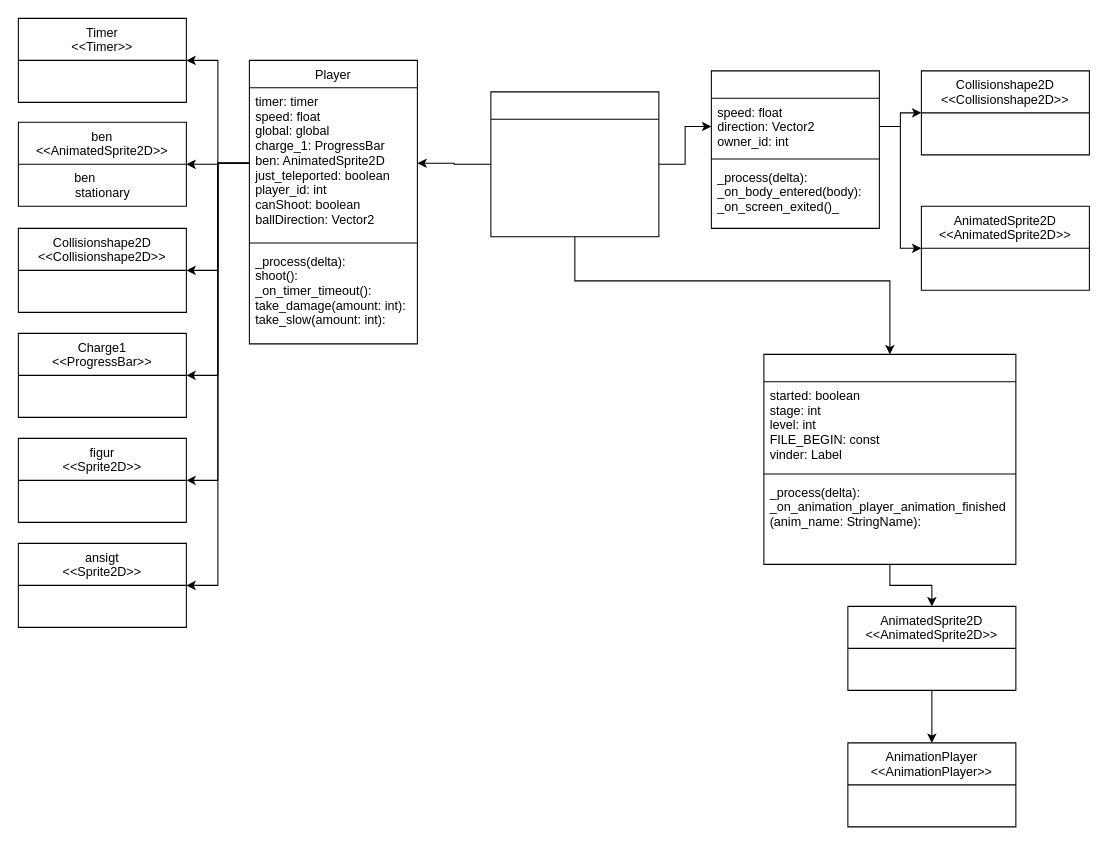
This 1108x845 diagram has some shape labels left out. The box of each missing label's shape, as (x1, y1, x2, y2) in pixels:
Ball: (710, 70, 879, 228)
Level: (490, 91, 659, 237)
NextLvl: (763, 353, 1016, 564)
